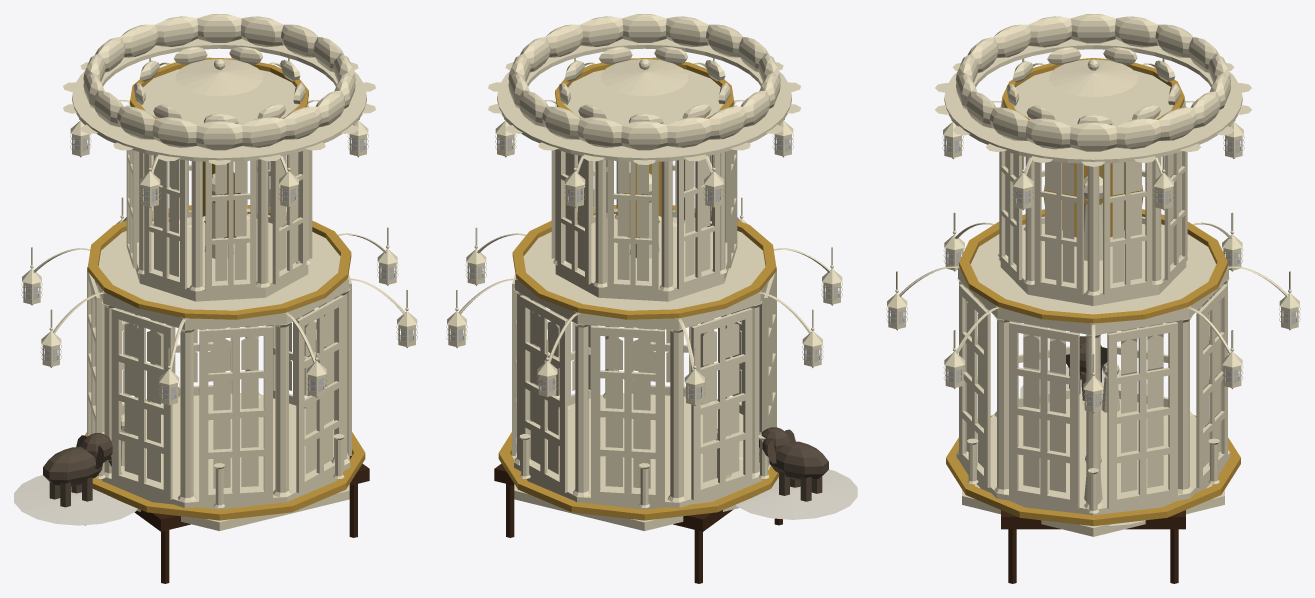
The model's file is Vesak Lantan Karakena kuduwa.obj.
The picture shows the model from 3 angles, left to right: view 1: azimuth 30°, elevation 25°; view 2: azimuth 150°, elevation 25°; view 3: azimuth 270°, elevation 25°; orthographic projection.
Visible parts, largest first — view 1: Canopy, Pan1_5, Pan1_4, Sep1, Pan1_6, BaseRing, Pan2_5, Pan2_4, Sep2, Rail1, Sep1B, BaseRail (+29 smaller); view 2: Canopy, Pan1_2, Pan1_3, Sep1, Pan1_1, BaseRing, Pan2_2, Pan2_3, Sep2, Rail1, Sep1B, BaseRail (+30 smaller); view 3: Canopy, Pan1_0, Pan1_7, Sep1, BaseRing, Pan2_0, Pan2_7, Pan1_1, Pan1_6, Sep2, Rail1, BaseRail (+22 smaller).
Part boxes in pixels (x1=…): Canopy: x1=63, y1=14, x2=375, y2=164; Pan1_5: x1=199, y1=326, x2=272, y2=503; Pan1_4: x1=111, y1=308, x2=172, y2=499; Sep1: x1=90, y1=214, x2=348, y2=330; Pan1_6: x1=296, y1=295, x2=344, y2=492; BaseRing: x1=101, y1=393, x2=350, y2=509; Pan2_5: x1=205, y1=160, x2=256, y2=291; Pan2_4: x1=144, y1=153, x2=186, y2=289; Sep2: x1=141, y1=69, x2=299, y2=125; Rail1: x1=87, y1=205, x2=351, y2=319; Sep1B: x1=135, y1=217, x2=308, y2=301; BaseRail: x1=84, y1=393, x2=365, y2=520; Canopy: x1=488, y1=14, x2=800, y2=164; Pan1_2: x1=591, y1=326, x2=664, y2=503; Pan1_3: x1=691, y1=308, x2=752, y2=500; Sep1: x1=515, y1=214, x2=773, y2=329; Pan1_1: x1=520, y1=295, x2=567, y2=492; BaseRing: x1=514, y1=393, x2=762, y2=509; Pan2_2: x1=607, y1=160, x2=658, y2=291; Pan2_3: x1=677, y1=153, x2=719, y2=289; Sep2: x1=564, y1=69, x2=732, y2=125; Rail1: x1=512, y1=205, x2=776, y2=319; Sep1B: x1=555, y1=217, x2=728, y2=301; BaseRail: x1=498, y1=393, x2=778, y2=520; Canopy: x1=935, y1=14, x2=1251, y2=166; Pan1_0: x1=1107, y1=322, x2=1177, y2=508; Pan1_7: x1=1009, y1=322, x2=1079, y2=508; Sep1: x1=958, y1=224, x2=1228, y2=335; BaseRing: x1=956, y1=396, x2=1230, y2=515; Pan2_0: x1=1103, y1=161, x2=1152, y2=294; Pan2_7: x1=1034, y1=161, x2=1083, y2=294; Pan1_1: x1=1196, y1=284, x2=1227, y2=487; Pan1_6: x1=959, y1=284, x2=990, y2=487; Sep2: x1=1001, y1=70, x2=1185, y2=126; Rail1: x1=959, y1=209, x2=1227, y2=323; BaseRail: x1=946, y1=398, x2=1240, y2=526.
Bounding box in the file's own units: 4.55 × 5.38 × 4.25.
